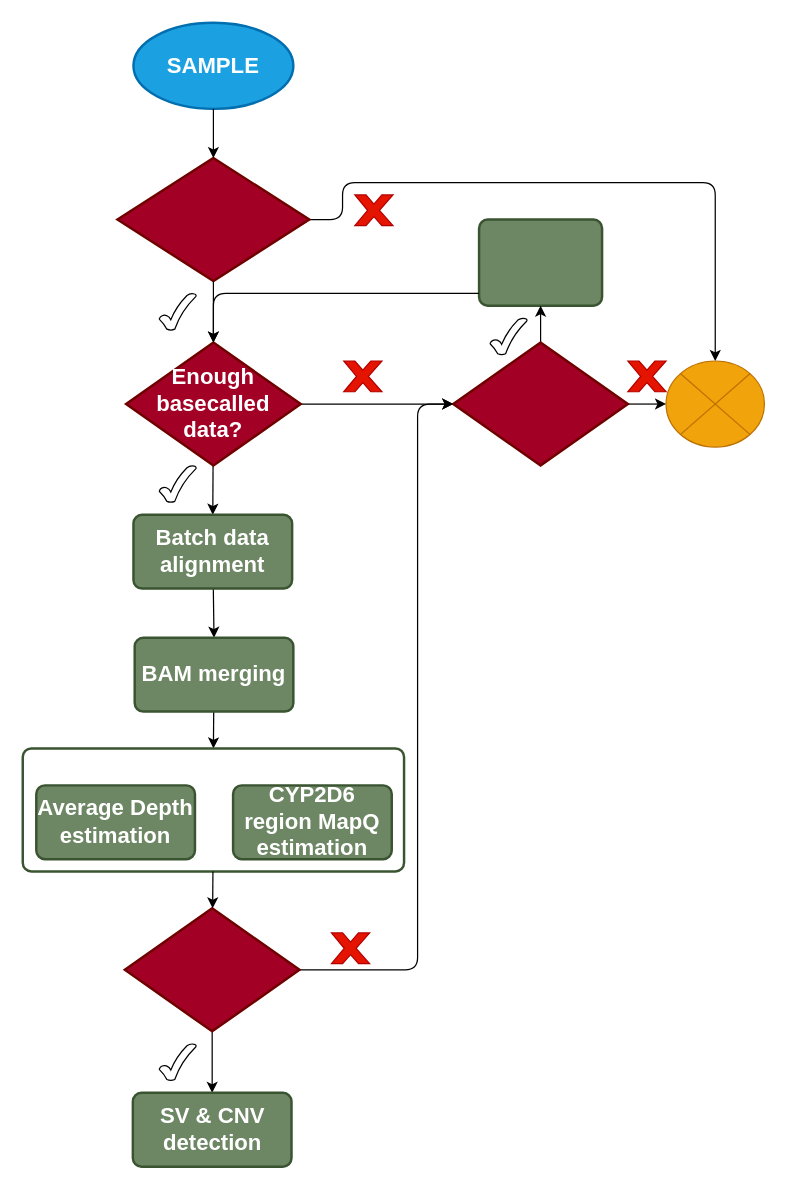
The diagram is 786 pixels wide and 1188 high, and some of its shapes have lost their labels. Each missing label, with the centre of its shape:
"Any unbasecalled batch?" belongs at point (540, 403).
"basecall additional batch" belongs at point (540, 262).
"Enough data?" belongs at point (213, 219).
"QC passed" belongs at point (211, 969).
